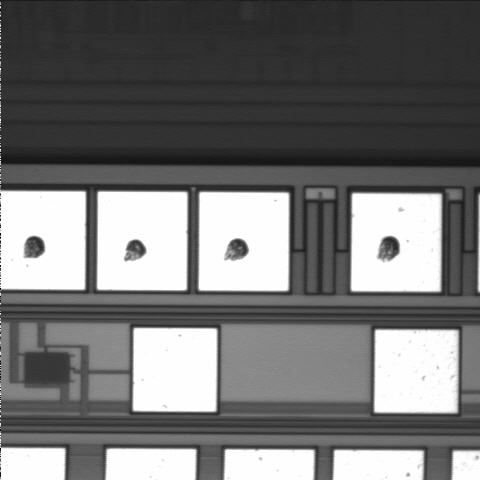pad: (199, 192, 289, 291), (97, 192, 187, 290), (351, 193, 441, 291), (133, 328, 217, 412), (375, 330, 458, 413)
